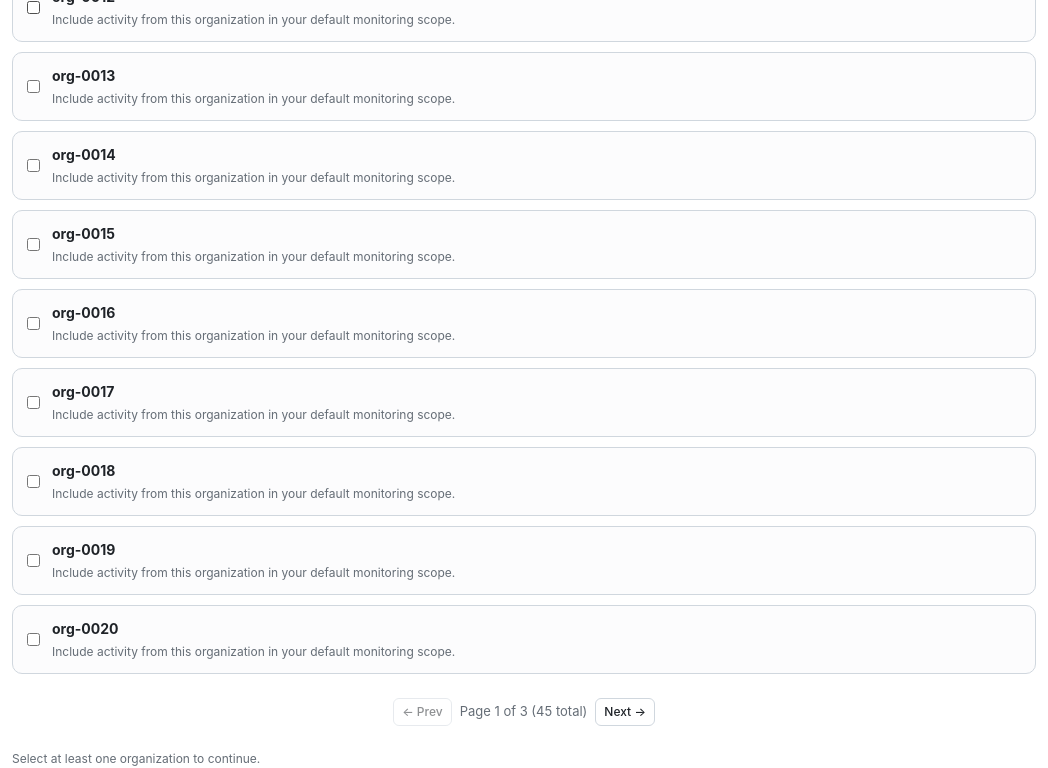
Test: PaginatedOrgList › resets to page 1 when search query changes
(page scrolled)
Note: Go to page 2
Click the button "Next →". click: (625, 712)
box: [595,698,655,726]
(page scrolled)
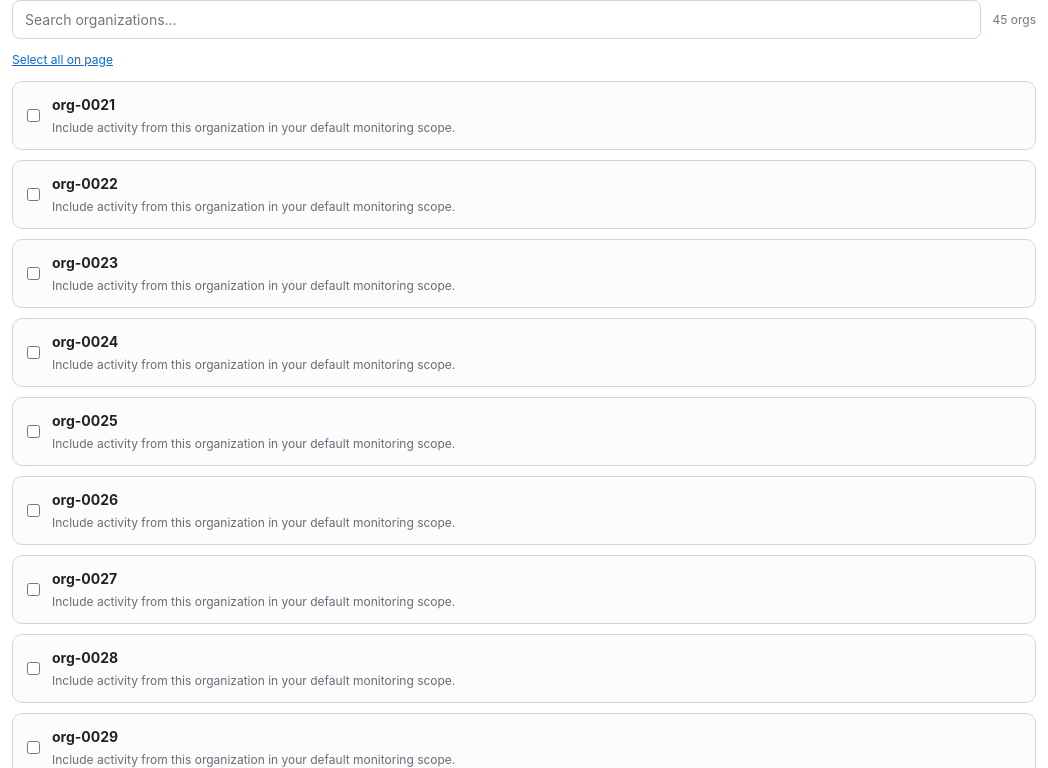
Note: Type a very specific search - should reset to page 1
Type "org-0045" into the search field with placeholder "Search organizations…". click: (496, 20)
box: [12,0,980,39]
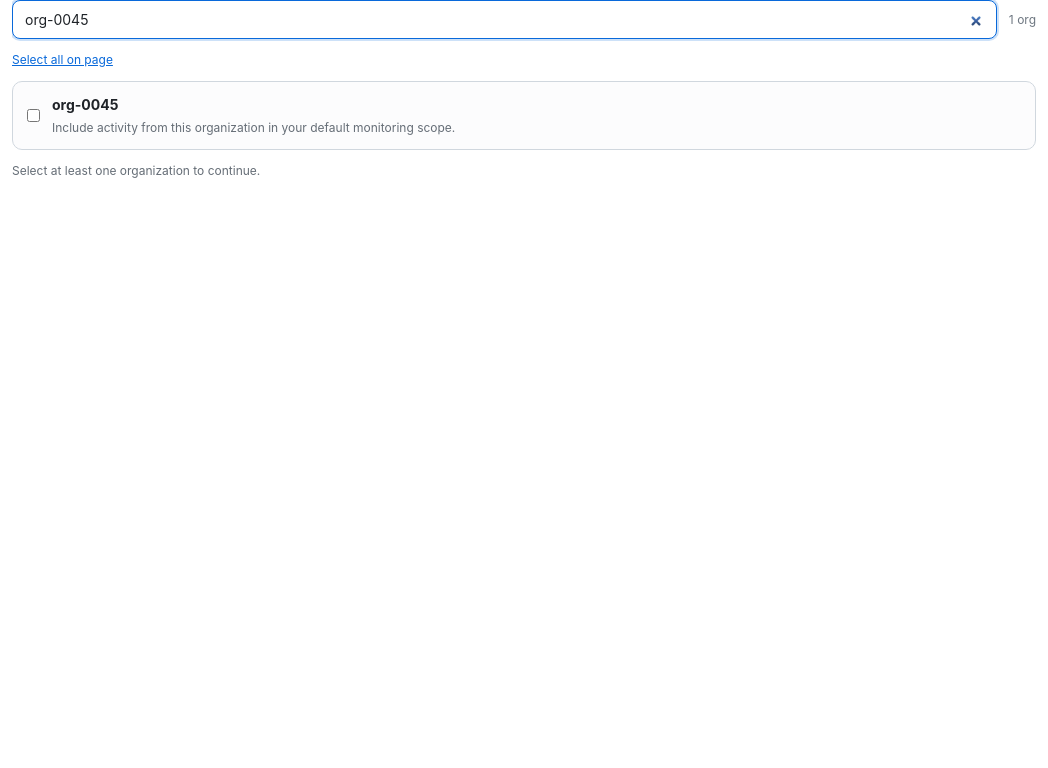
expect the checkbox labelled "org-0045" is shown: met, box [27,109,40,122]
expect the text "1 org" is shown: met, box [1009,10,1036,28]
